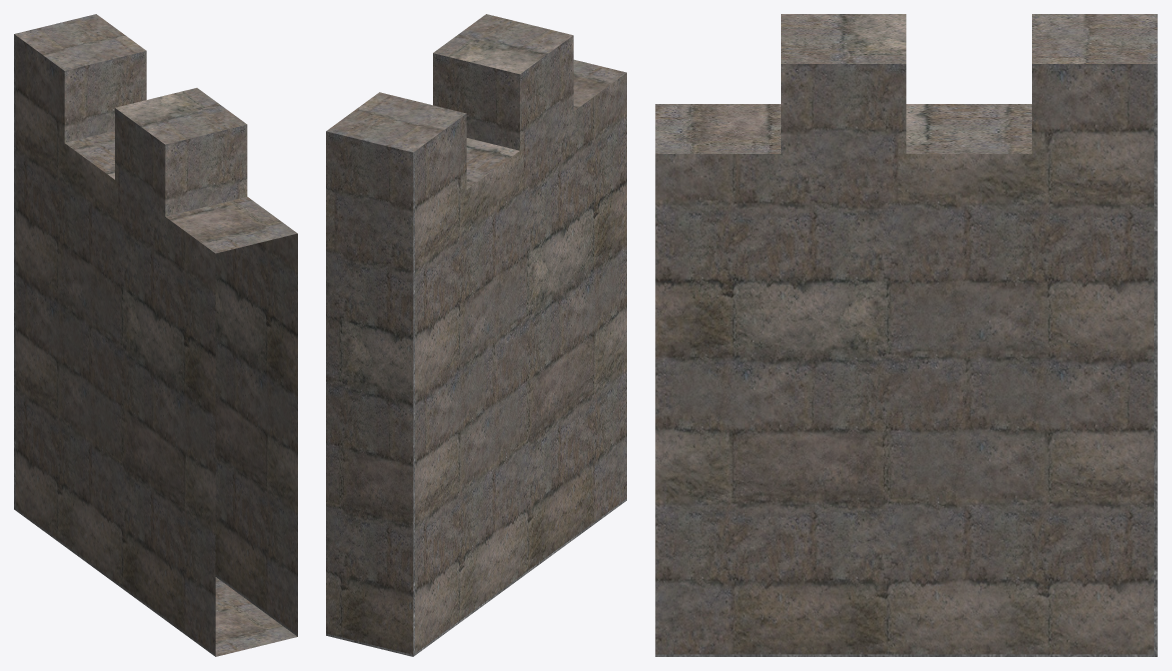
File: brickPartWall.fbx
The picture shows the model from 3 angles, left to right: view 1: azimuth 30°, elevation 25°; view 2: azimuth 150°, elevation 25°; view 3: azimuth 270°, elevation 25°; orthographic projection. The views are drawn at different scales.
Visible parts, largest first — view 1: pCube337; view 2: pCube337; view 3: pCube337.
Boxes of the visible parts, x1,y1,x2,y2 form: pCube337: [14, 14, 297, 656]; pCube337: [326, 14, 626, 656]; pCube337: [655, 14, 1157, 656].
Size of the model in its own units: 1.9 by 10.52 by 8.08.
1 material, 1 textured.
